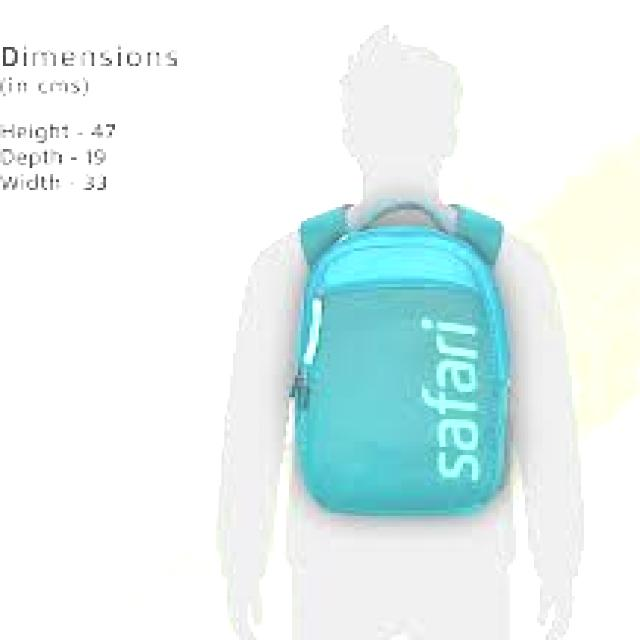backpack: (290, 200, 514, 517)
